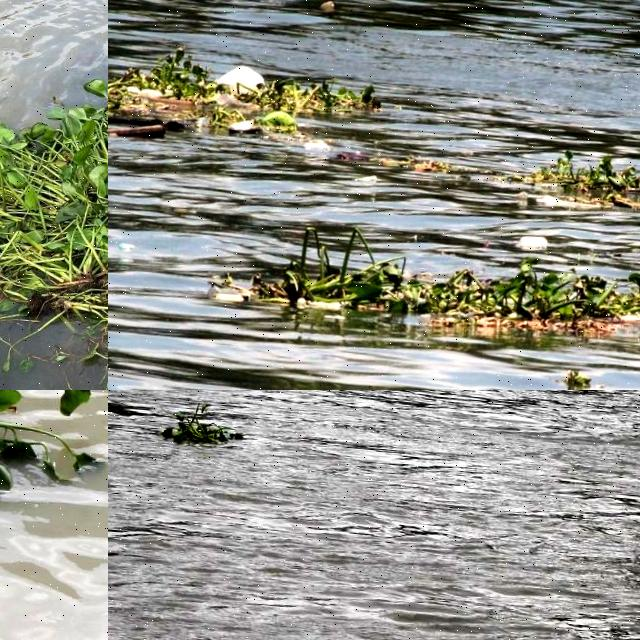water-hyacinth: (211, 224, 640, 348), (1, 29, 109, 391), (112, 42, 398, 119), (1, 391, 109, 515), (530, 139, 640, 215), (164, 394, 246, 455)
